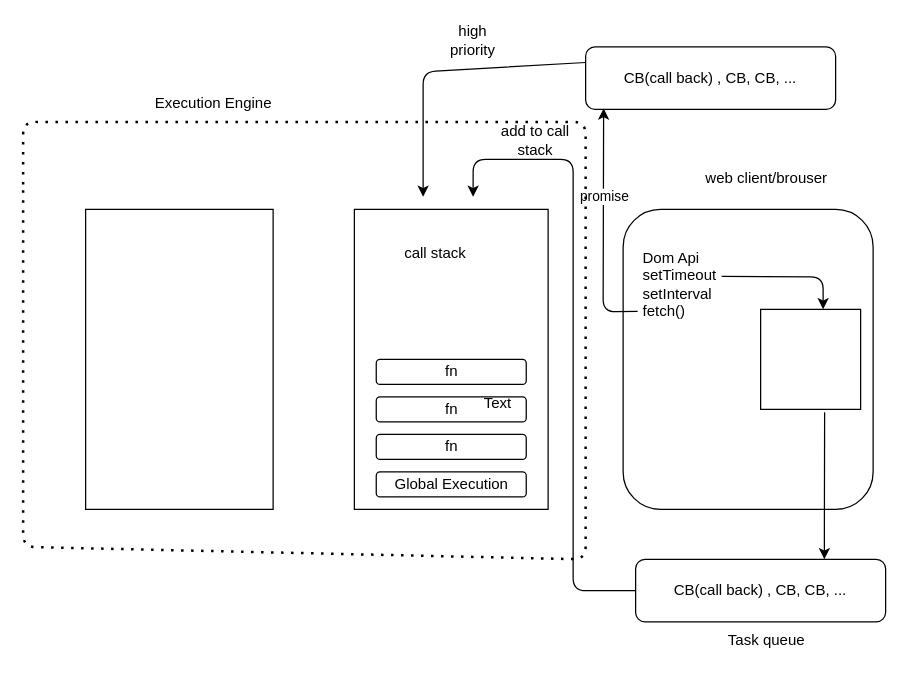
The diagram is 908 pixels wide and 680 high, and some of its shapes have lost their labels. Here are the shapes that lost their labels. From the top down, the centre of each, then its label:
point 178,358: Heap memory
point 810,358: Register Call back
